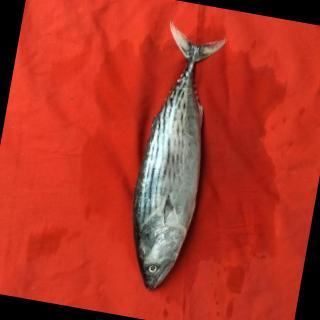Ikan: (116, 19, 238, 303)
